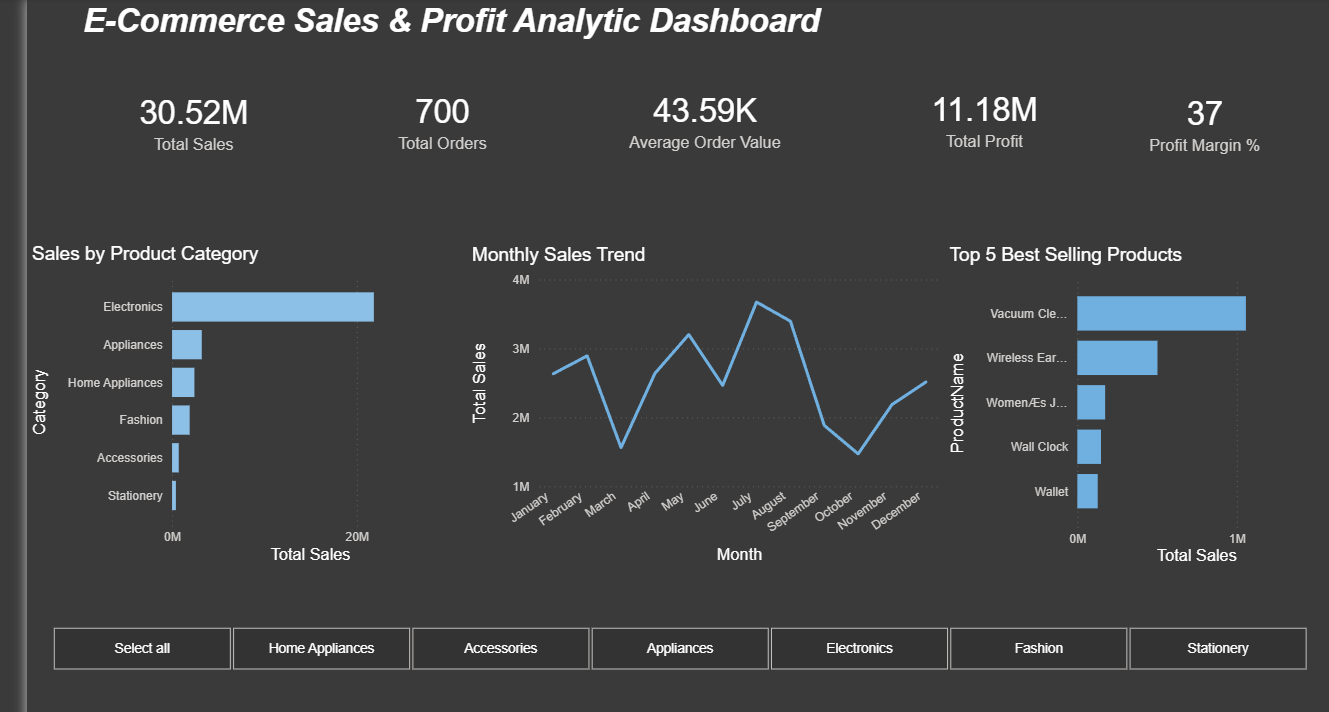

Layout of this report page (visuals, bound fields, positions):
{"tool":"powerbi","page":{"name":"Page 1","canvas":[1280,720],"ordinal":0},"visuals":[{"type":"card","title":"Total Revenue","fields":{"Values":["OrderDetails.Total Sales"]},"box":[67.2,72.1,192.8,97],"z":0},{"type":"card","title":"Total Profit","fields":{"Values":["OrderDetails.Total Profit"]},"box":[845.9,69.7,189.1,95.8],"z":1000},{"type":"card","title":"Total Orders","fields":{"Values":["Orders.Total Orders"]},"box":[313.5,72.1,190.3,94.5],"z":2000},{"type":"card","title":"Average Order Value","fields":{"Values":["OrderDetails.Average Order Value"]},"box":[572.2,69.7,187.8,97],"z":3000},{"type":"card","title":"Profit Margin","fields":{"Values":["OrderDetails.Profit Margin %"]},"box":[1072.3,73.4,167.9,95.8],"z":4000},{"type":"textbox","box":[0,0,823.5,49.8],"z":5000},{"type":"clusteredBarChart","title":"Sales by Product Category","fields":{"Category":["Products.Category"],"Y":["OrderDetails.Total Sales"]},"box":[0,240.1,431.7,319.7],"z":6000},{"type":"lineChart","title":"Monthly Sales Trend","fields":{"Category":["Orders.OrderDate.Variation.Date Hierarchy.Month"],"Y":["OrderDetails.Total Sales"]},"box":[431.7,241.3,469,318.5],"z":7000},{"type":"barChart","title":"Top 5 Best Selling Products","fields":{"Category":["Products.ProductName"],"Y":["OrderDetails.Total Sales"]},"box":[900.6,241.3,379.4,319.7],"z":8000},{"type":"slicer","fields":{"Values":["Products.Category"]},"box":[0,610.6,1280.3,54.9],"z":9000}]}

Visuals, with their boxes on the page's 1280x720 design canvas (x1, y1, x2, y2). These are canvas units, not pixel positions in the 1329x712 screenshot, which may show the page scaled, cropped or inside an application window:
"Total Revenue" card: 67:72:260:169
"Total Profit" card: 846:70:1035:166
"Total Orders" card: 314:72:504:167
"Average Order Value" card: 572:70:760:167
"Profit Margin" card: 1072:73:1240:169
textbox: 0:0:824:50
"Sales by Product Category" clusteredBarChart: 0:240:432:560
"Monthly Sales Trend" lineChart: 432:241:901:560
"Top 5 Best Selling Products" barChart: 901:241:1280:561
slicer - Products.Category: 0:611:1280:666
